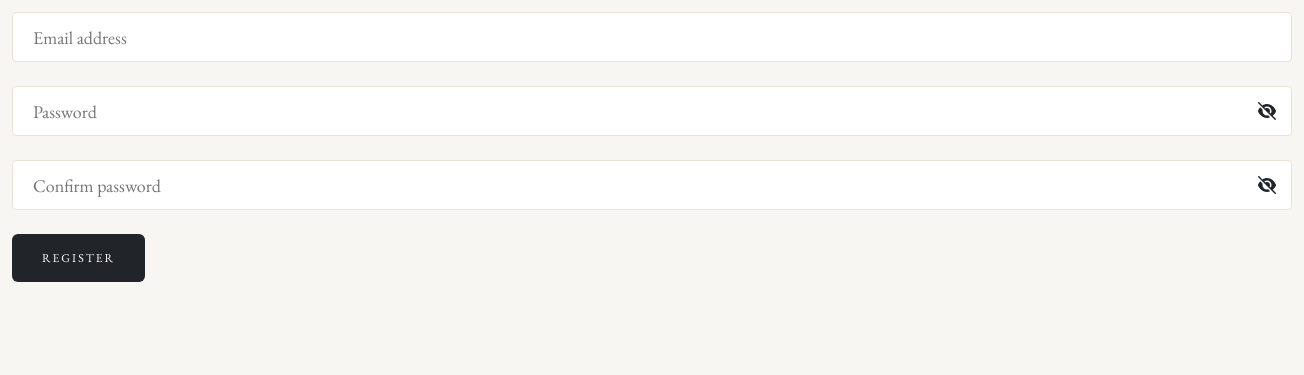
it: RegisterForm component › shows error message for passwords that do not match
Type "password1" into the password field labelled "Password" at (652, 111), box [12,86,1292,136]
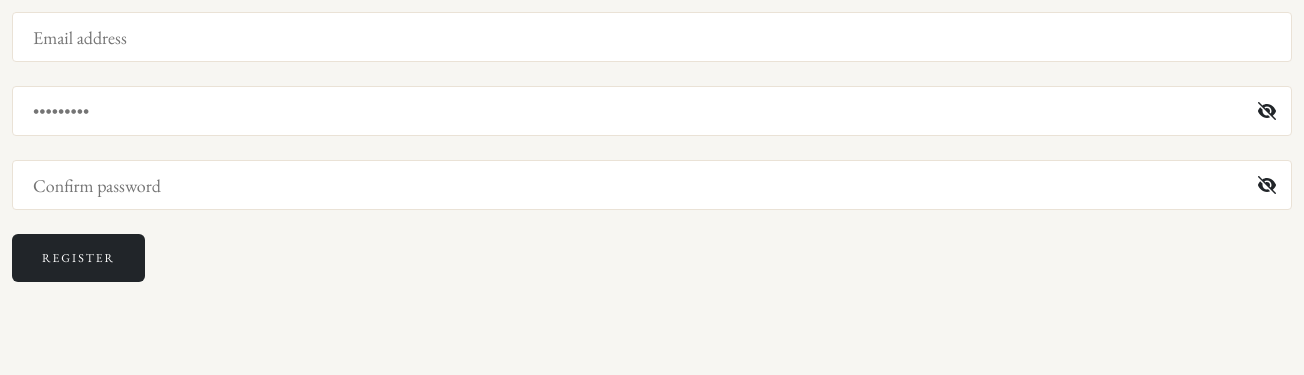
Type "password2" into the password field labelled "Confirm password" at (652, 185), box [12,160,1292,210]
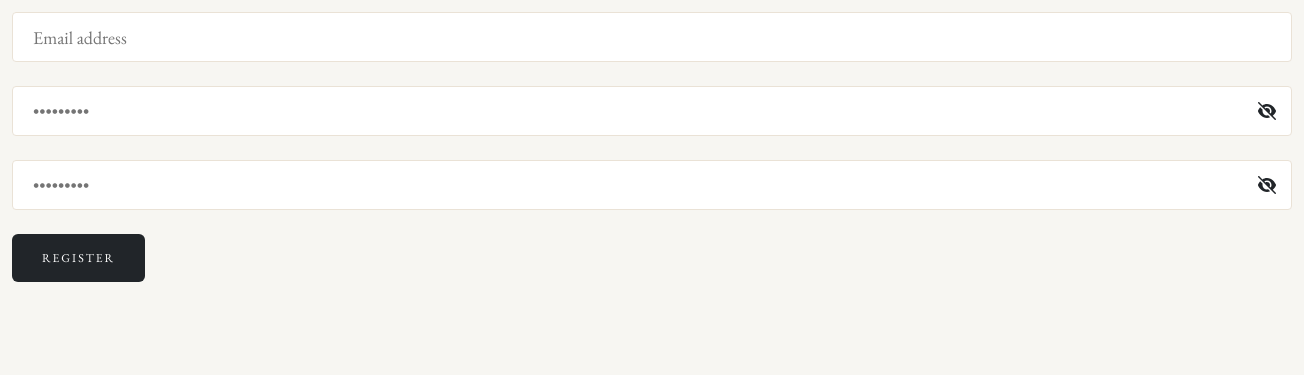
Click the button "Register" at (79, 258), box [12,234,145,282]
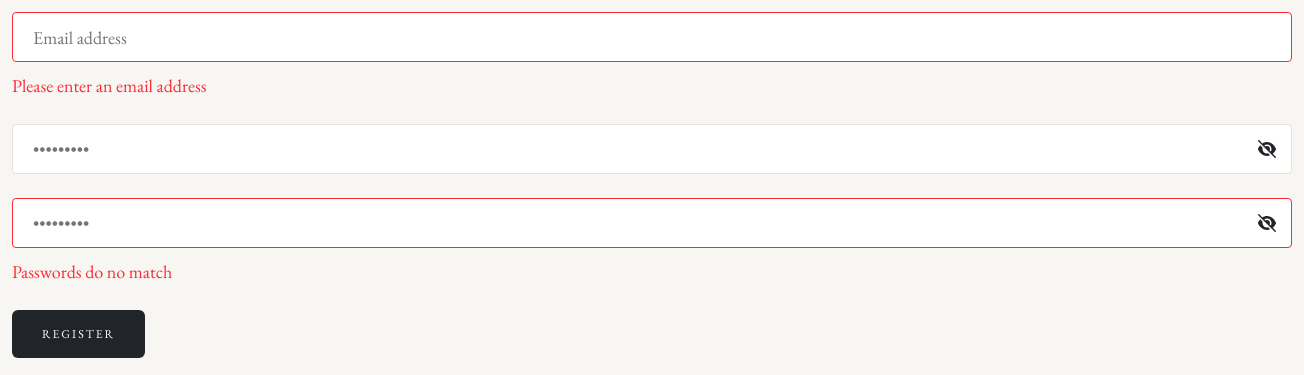
Check: the text "Passwords do no match" is shown, box [12,260,172,283]
